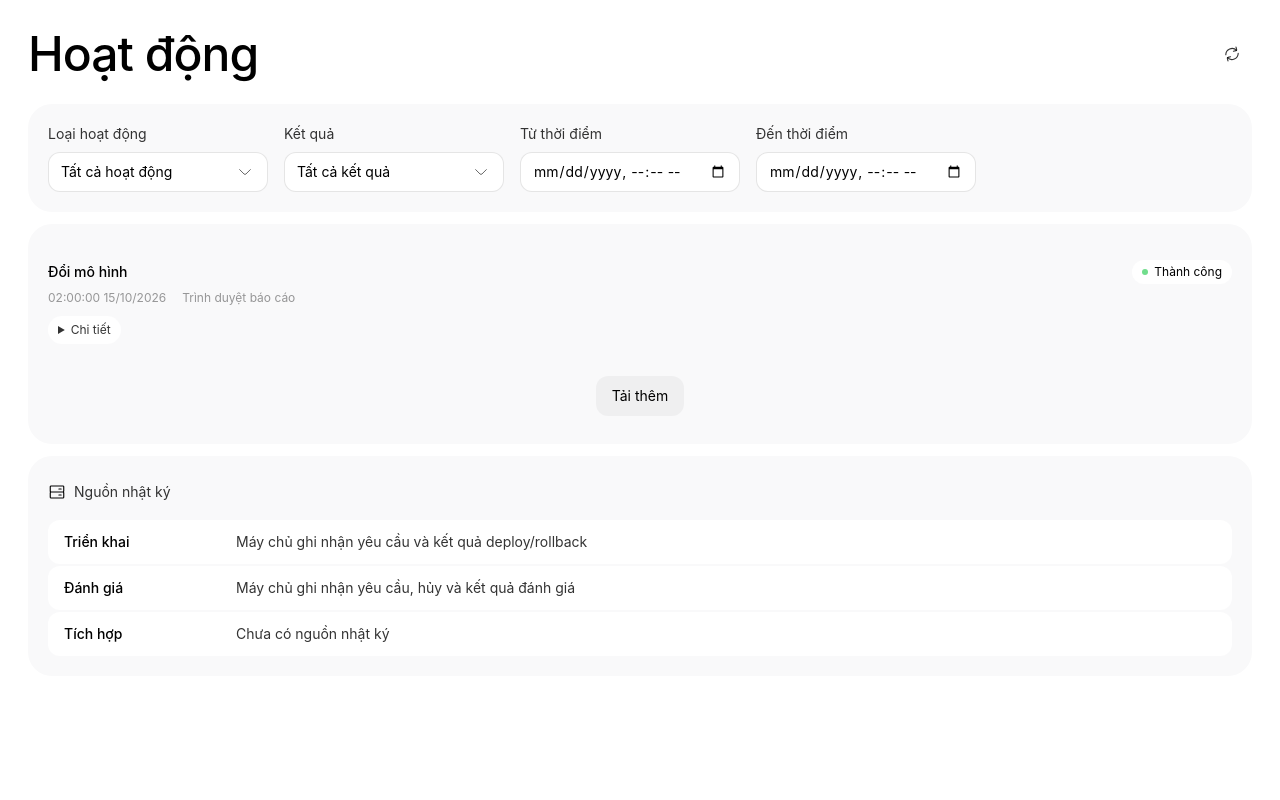
WorkspaceActivity › loads more explicitly and refreshes with an accessible icon control
Click the button "Tải thêm" at (640, 396), box [596,376,684,416]
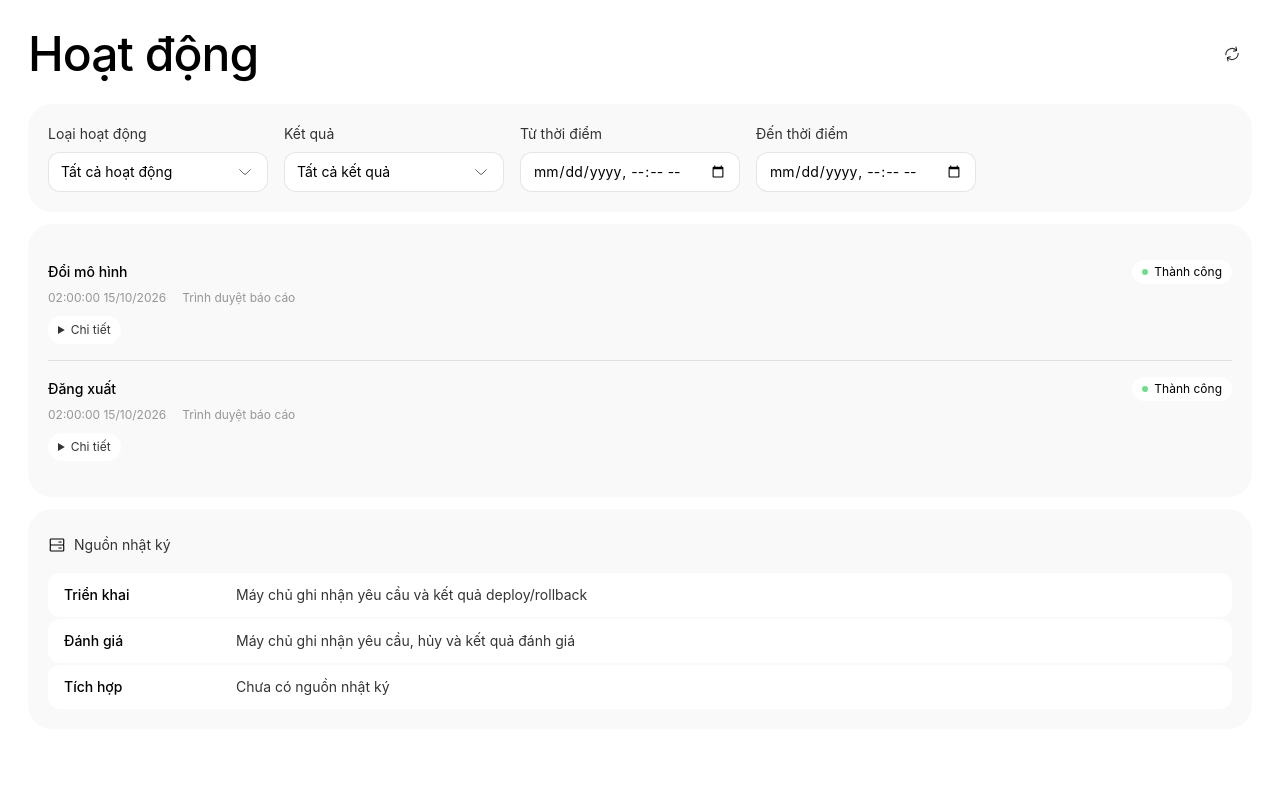
Expected: the 1st icon is shown, [1223,45,1241,63]
Click the button named "Làm mới hoạt động" at (1232, 54), box [1212,34,1252,74]
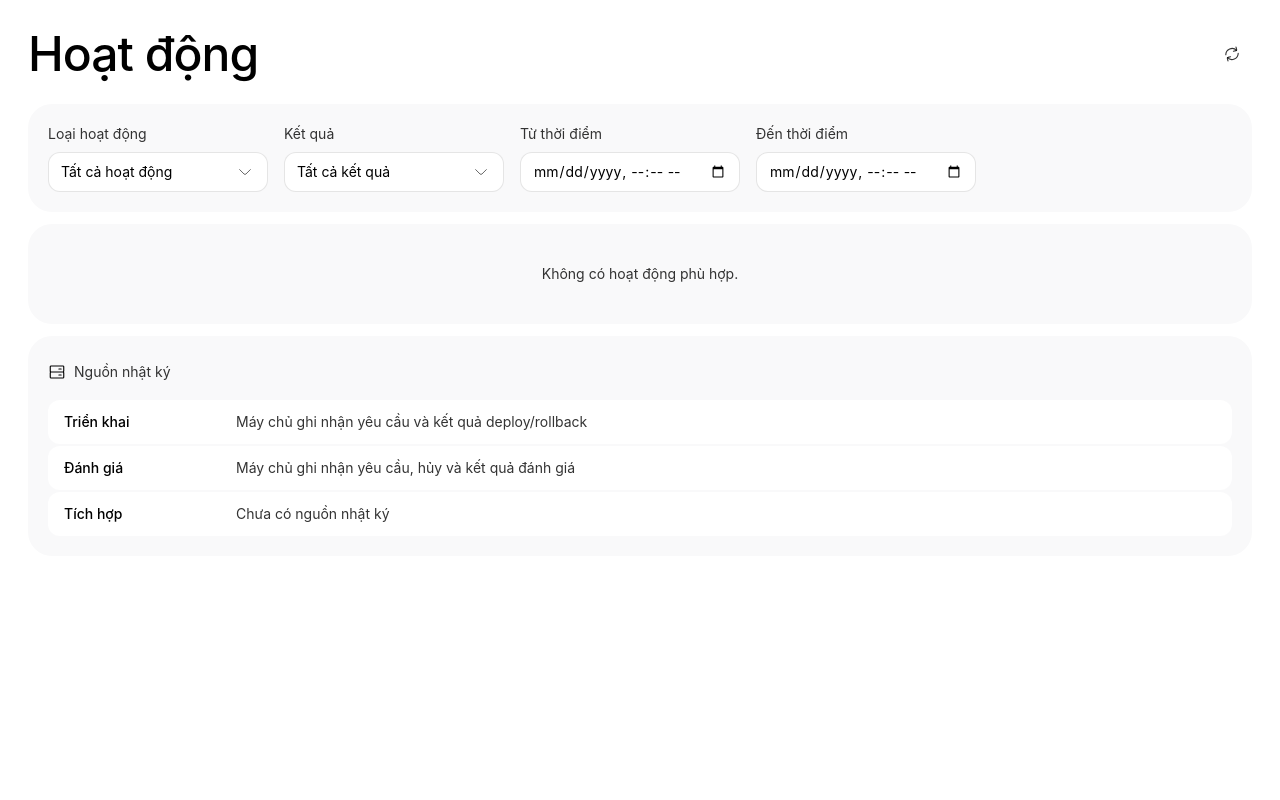
Now the text "Không có hoạt động phù hợp." is shown, box [542,265,738,282]
